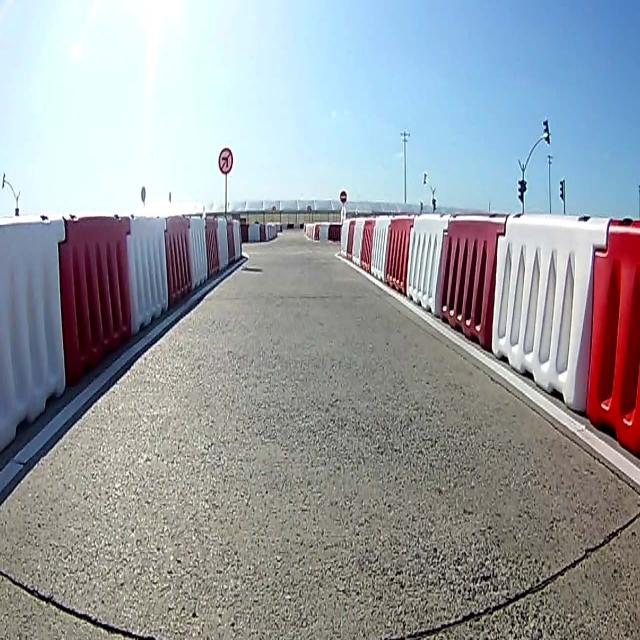girisyok: (339, 190, 347, 203)
soladonulmez: (218, 145, 232, 174)
